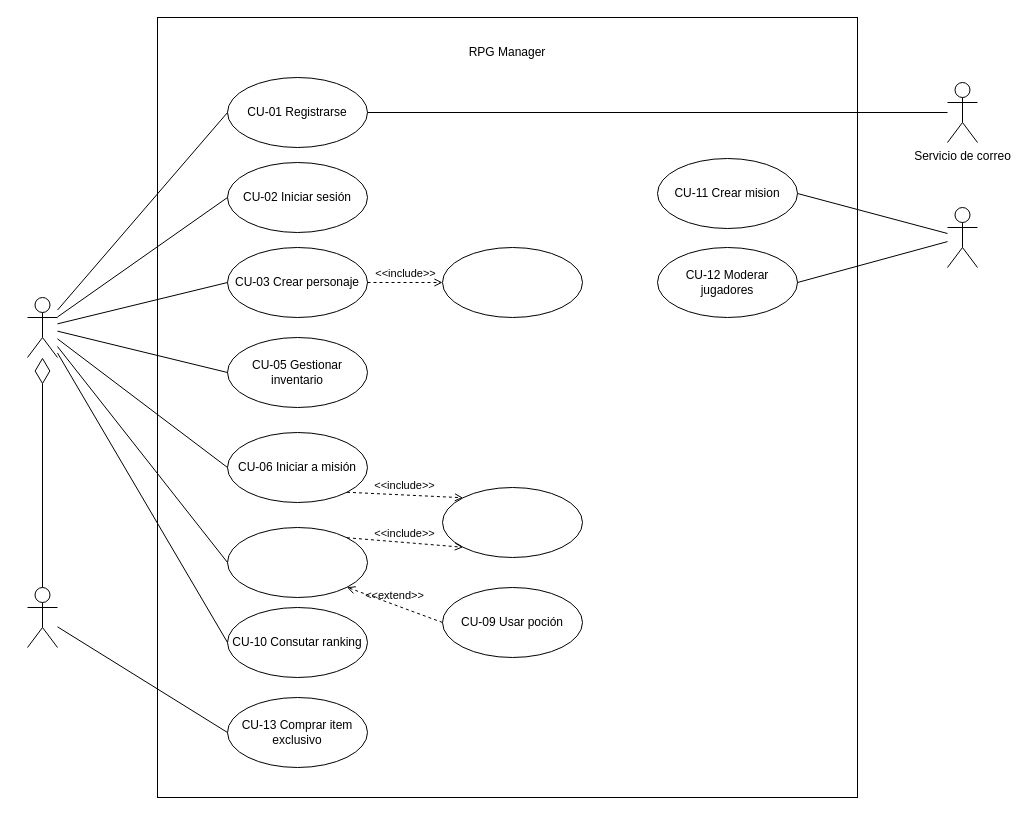
Image size: 1028x815. Some labels were removed from this diagram. Here are the shapes that lost their labels. From the top down, the centre of each, then its label:
At (962,237): "Game Master".
At (512,282): "CU-04 Elegir personaje".
At (42,327): "Jugador".
At (512,522): "CU-08 Validar personaje vivo".
At (297,562): "CU-07 Combatir en la arena".
At (42,617): "Jugador Premium".
